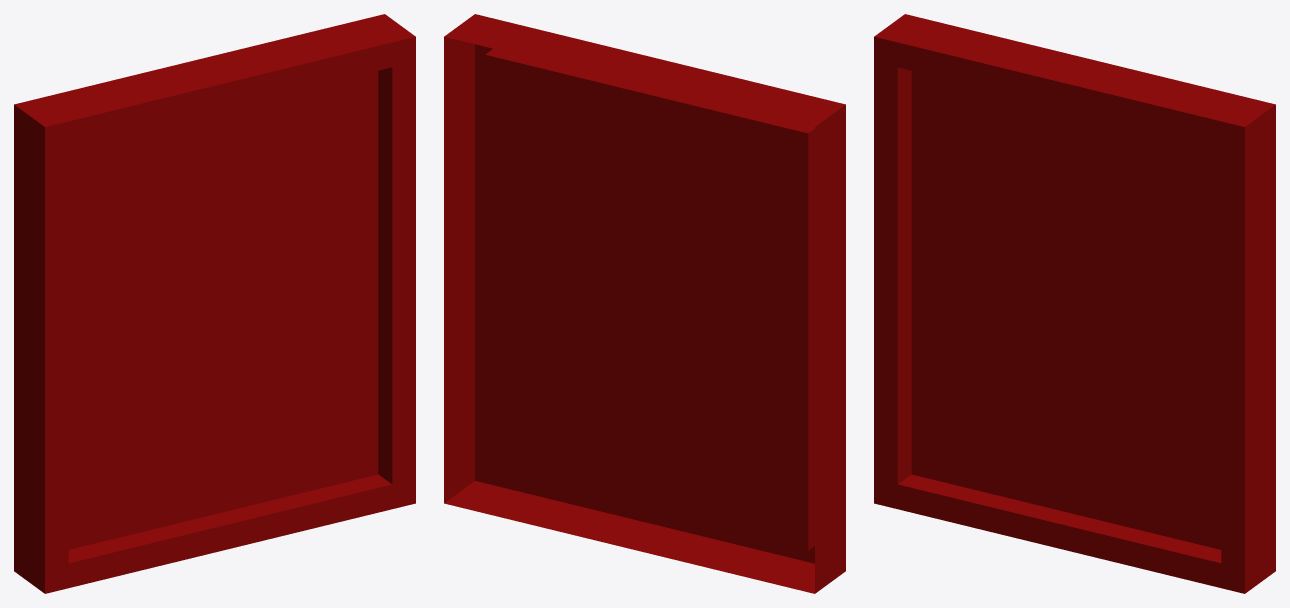
The model's file is DecoMur3.FBX.
3 renders of one model, left to right at view 1: azimuth 30°, elevation 25°; view 2: azimuth 150°, elevation 25°; view 3: azimuth 330°, elevation 25°, orthographic.
Visible parts, largest first — view 1: cadre_B; view 2: cadre_B; view 3: cadre_B.
Boxes of the visible parts, left/top/right/bottom form: cadre_B: left=14, top=14, right=415, bottom=593; cadre_B: left=444, top=14, right=845, bottom=593; cadre_B: left=874, top=14, right=1275, bottom=593.
Size of the model in its own units: 0.6054 by 0.0877 by 0.7282.
